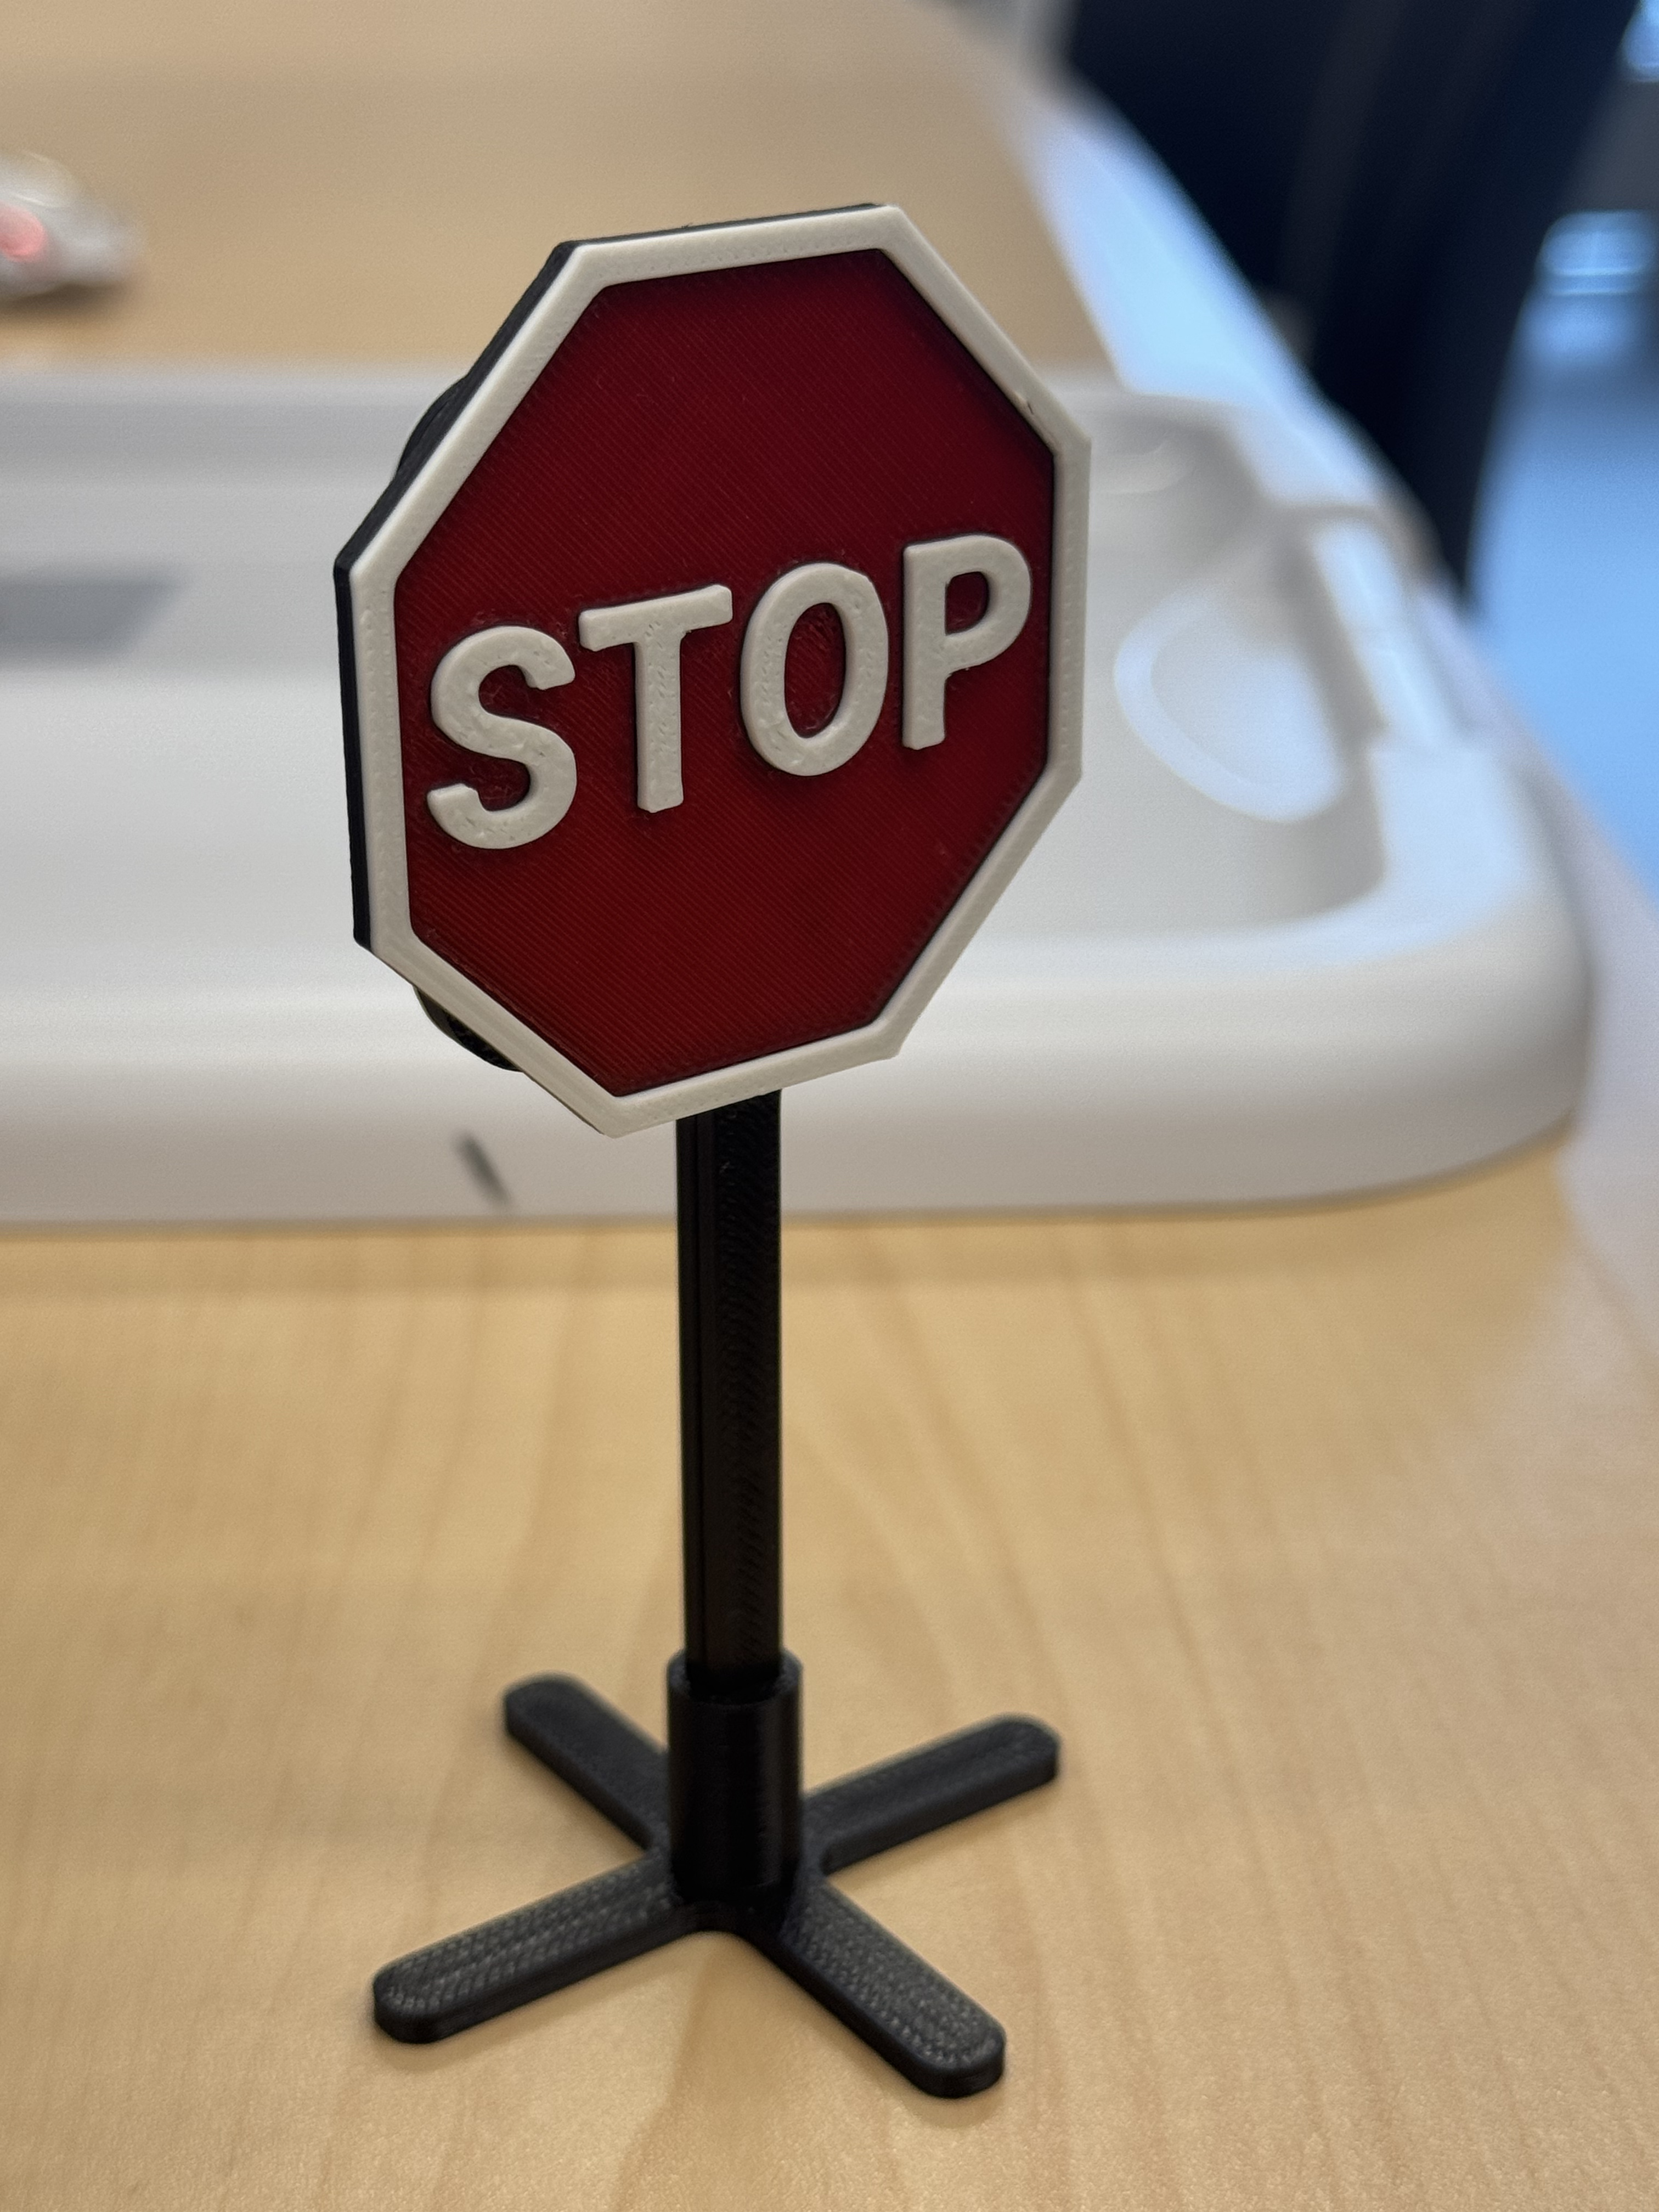sign_stop: (321, 188, 1079, 2113)
